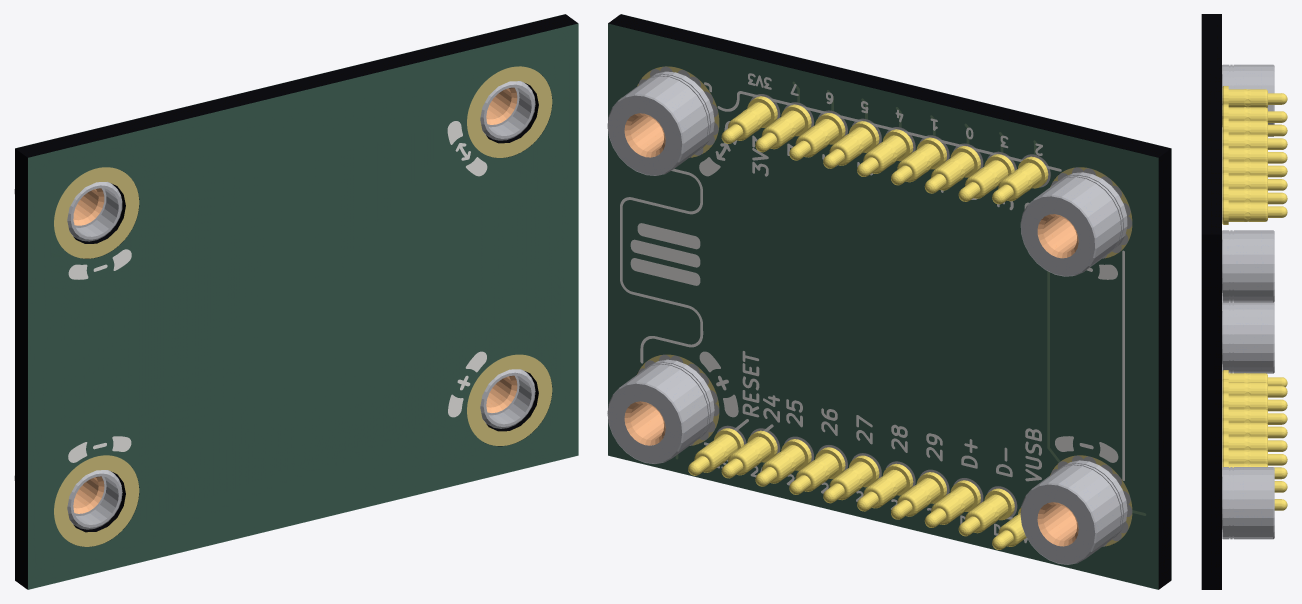
Rendered from vm_rp2040_pogo_mh_0.1.glb.
3 views of the same model, side by side, from view 1: azimuth 30°, elevation 25°; view 2: azimuth 150°, elevation 25°; view 3: azimuth 270°, elevation 25° (orthographic). The views are drawn at different scales.
Parts seen in each view (by area): view 1: SHAPE_1_IndexedFaceSet, SHAPE_182_IndexedFaceSet; view 2: SHAPE_1_IndexedFaceSet, SHAPE_182_IndexedFaceSet; view 3: SHAPE_1_IndexedFaceSet.
Part boxes in pixels (<box>): SHAPE_1_IndexedFaceSet: <box>14,14,577,589</box>; SHAPE_182_IndexedFaceSet: <box>15,14,578,589</box>; SHAPE_1_IndexedFaceSet: <box>607,14,1171,589</box>; SHAPE_182_IndexedFaceSet: <box>608,14,1171,589</box>; SHAPE_1_IndexedFaceSet: <box>1201,14,1287,589</box>.
Size of the model in its own units: 40 by 30 by 6.68.
2 materials, 2 textured.
